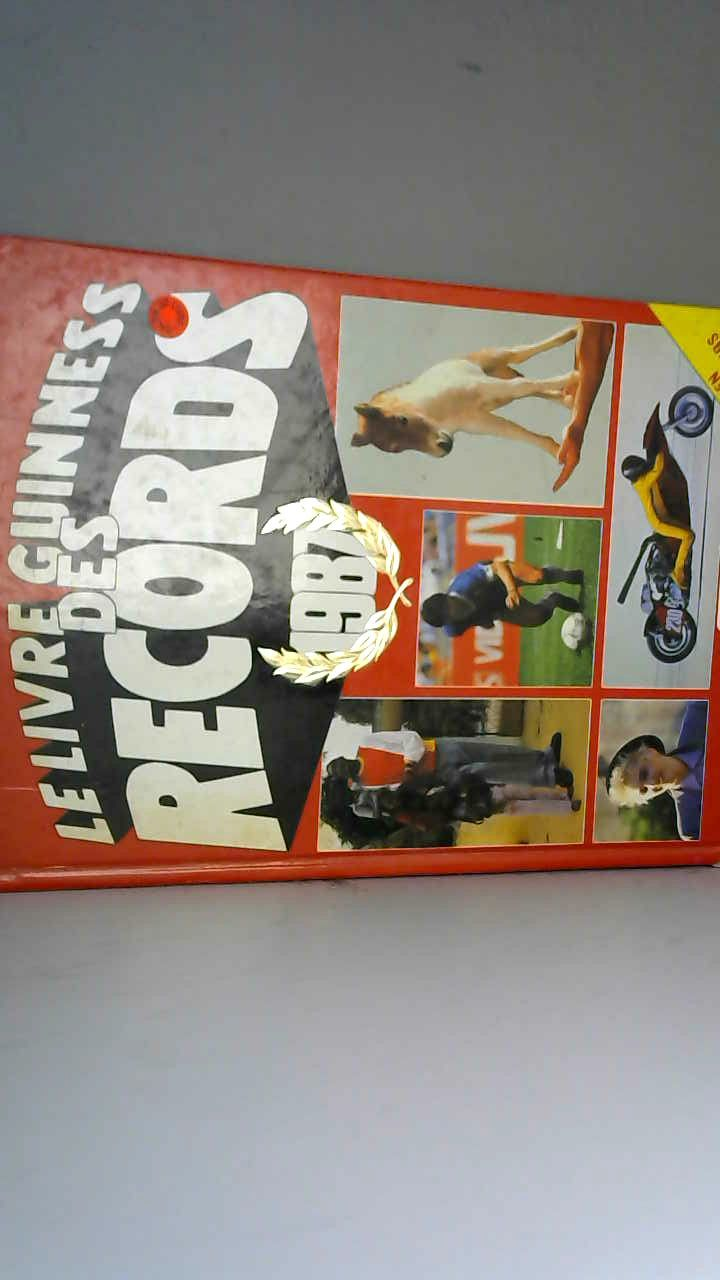book: (0, 220, 712, 899)
